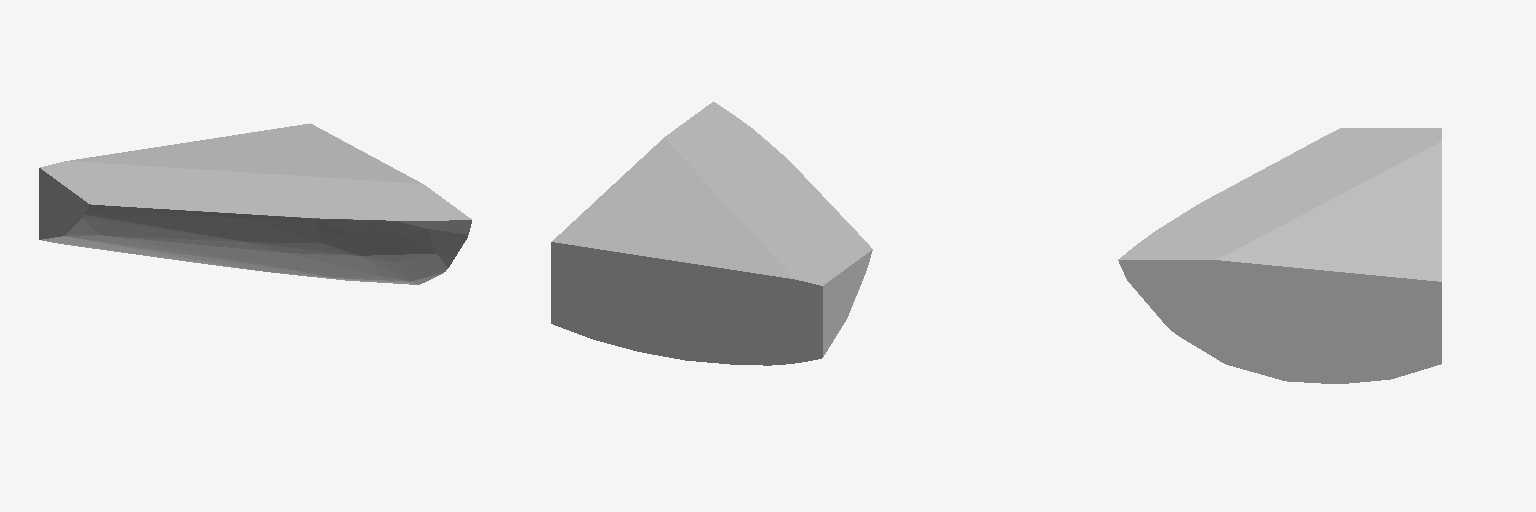
The model's file is phantom-elastrat_collision_182.obj.
The picture shows the model from 3 angles: view 1: azimuth 30°, elevation 25°; view 2: azimuth 150°, elevation 25°; view 3: azimuth 270°, elevation 25°; orthographic projection.
Bounding box in the file's own units: 0.0068 × 0.003 × 0.0071.